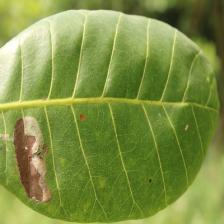leaf miner: (0, 8, 220, 223), (12, 116, 53, 204)
